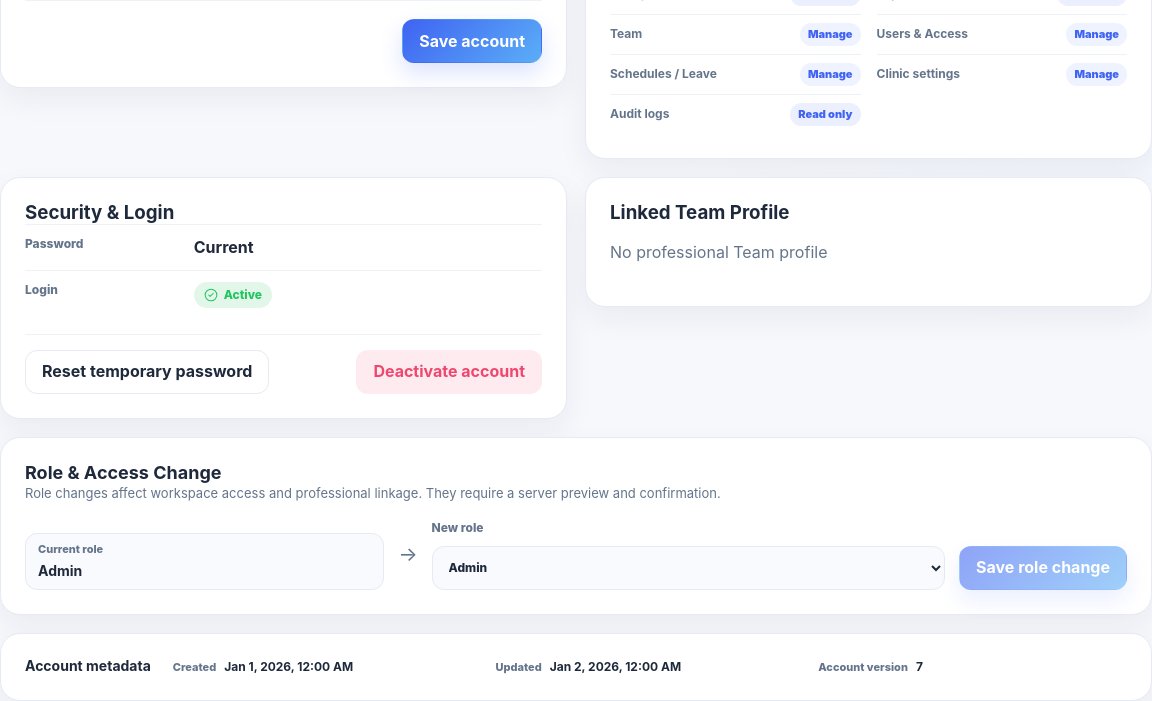
Test case: Users & Access pages › shows blockers without a confirm action and Cancel never saves
(page scrolled)
Select "Staff" in the dropdown labelled "New role" at (688, 568), box 432,546 -> 945,590
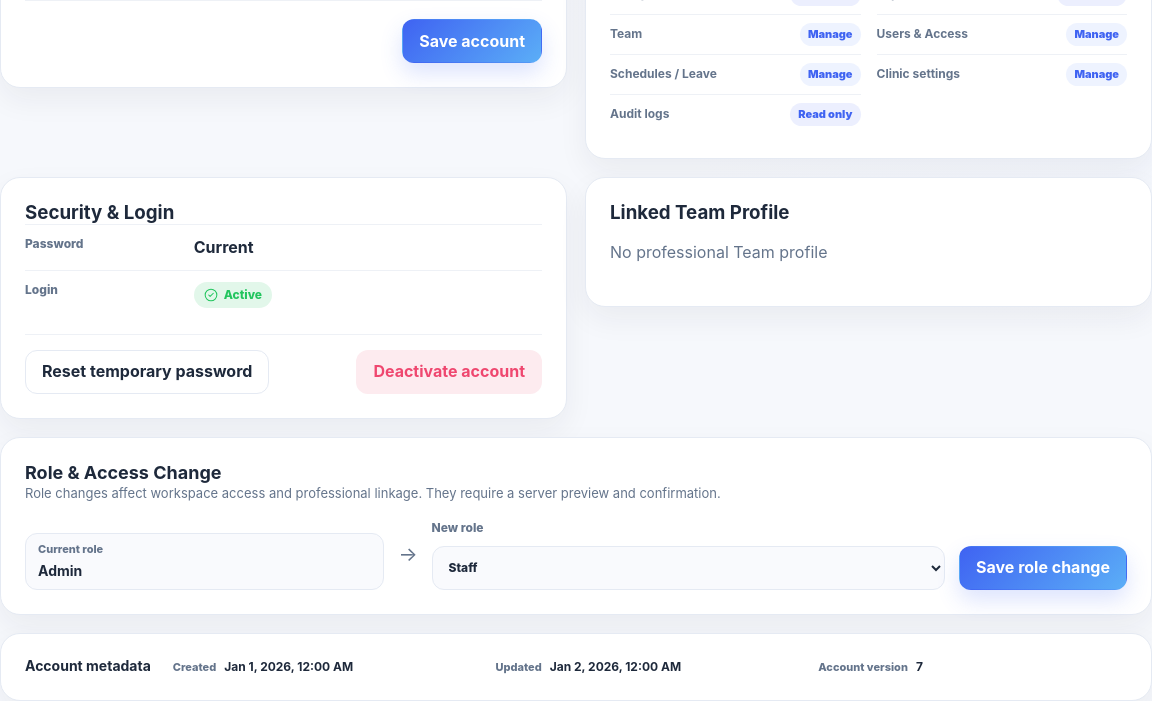
Click the button "Save role change" at (1043, 568), box 959,546 -> 1127,590
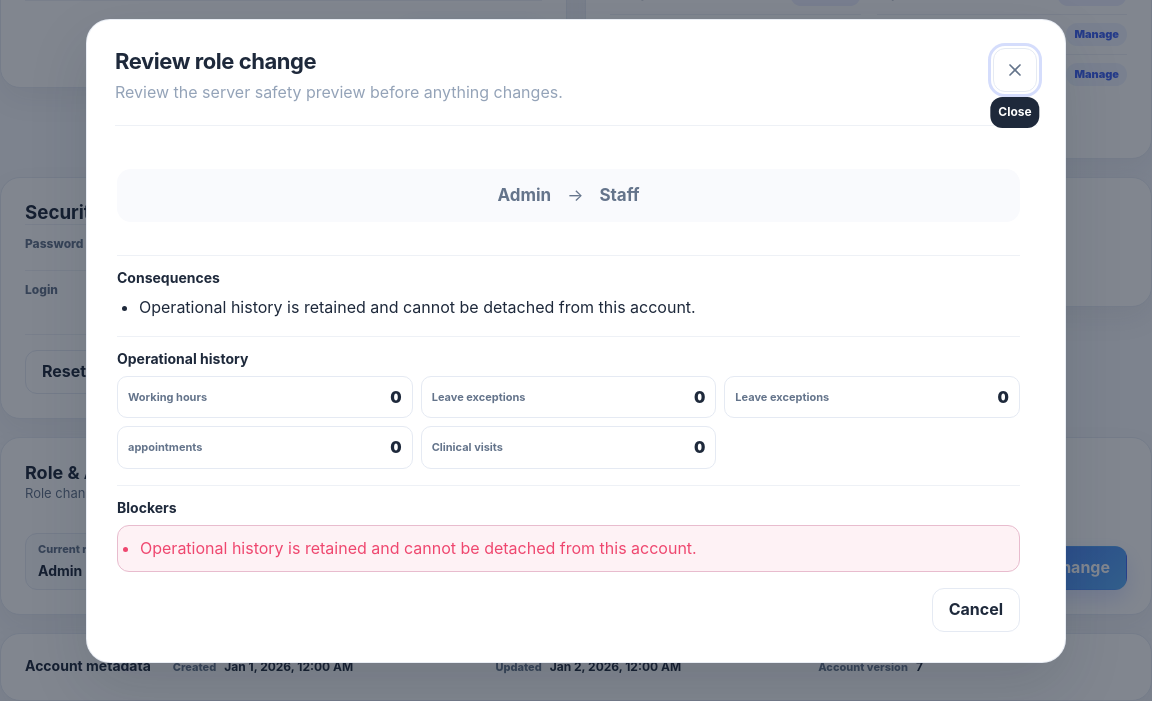
Check: the list item "retained and cannot be detached" is shown, box 139,297 -> 696,317
Click the button "Cancel" at (976, 610), box 932,588 -> 1020,632
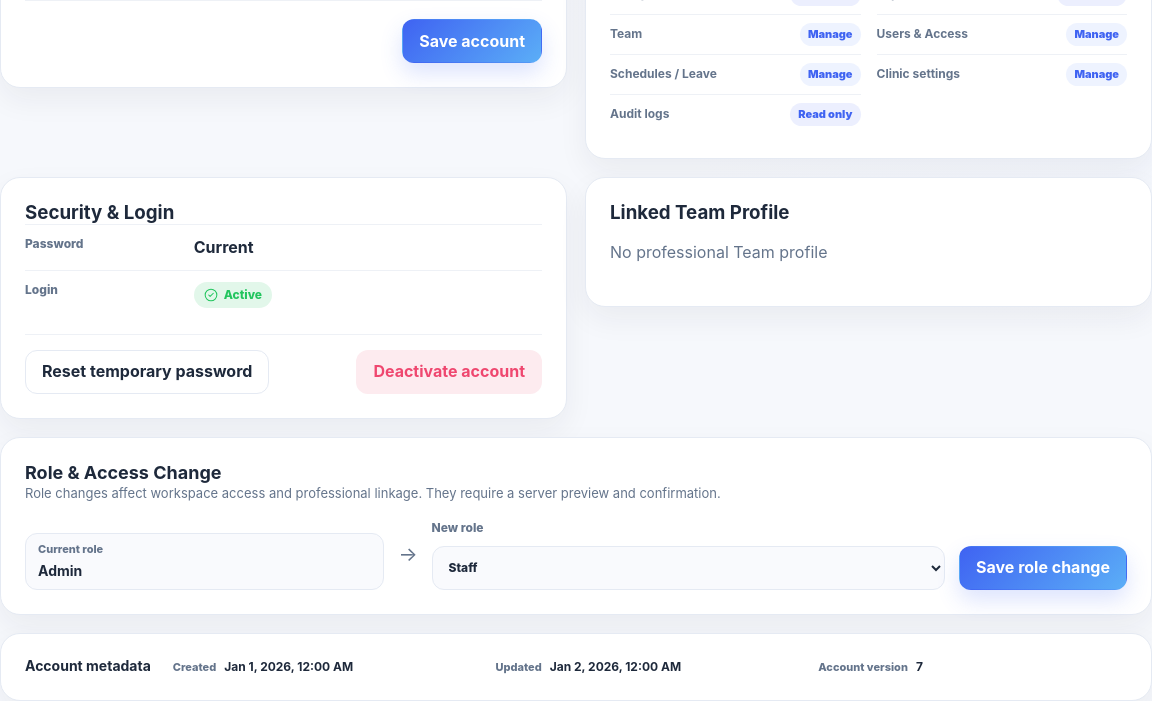
Check: the heading "Review role change" is gone
